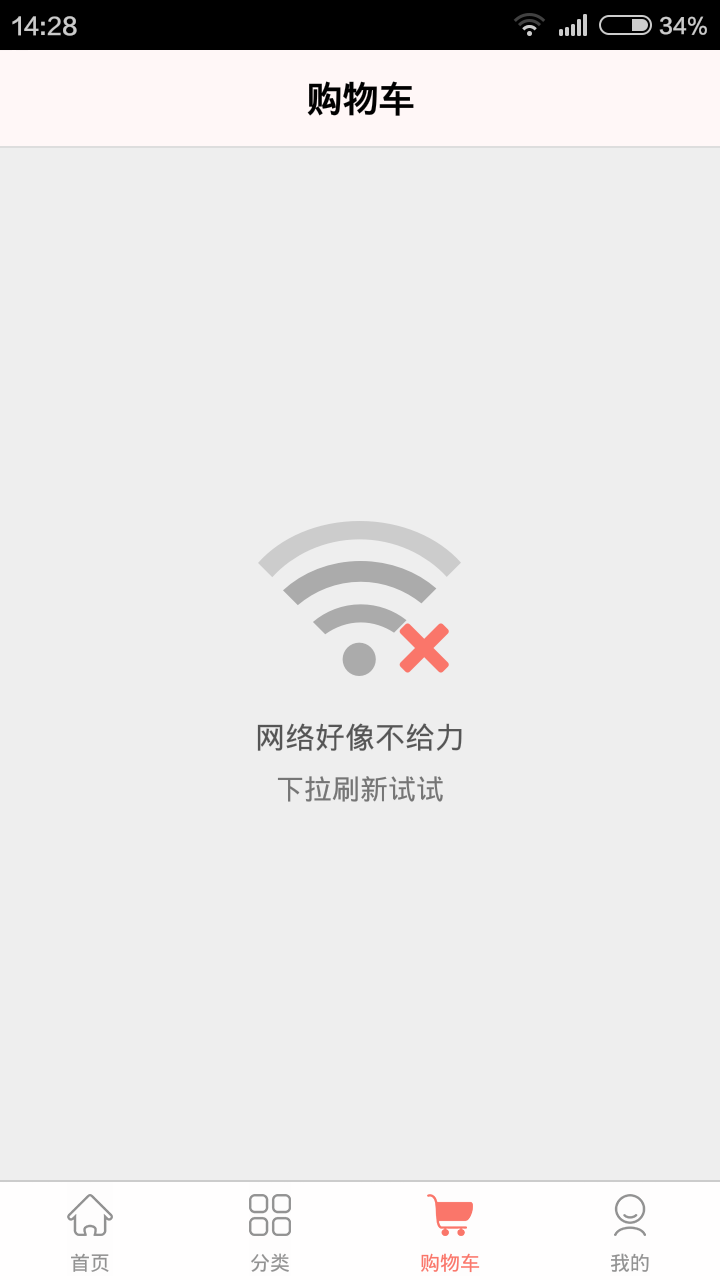imgview: (225, 496, 478, 706)
nav: (6, 1183, 697, 1280)
textview: (8, 53, 720, 149)
